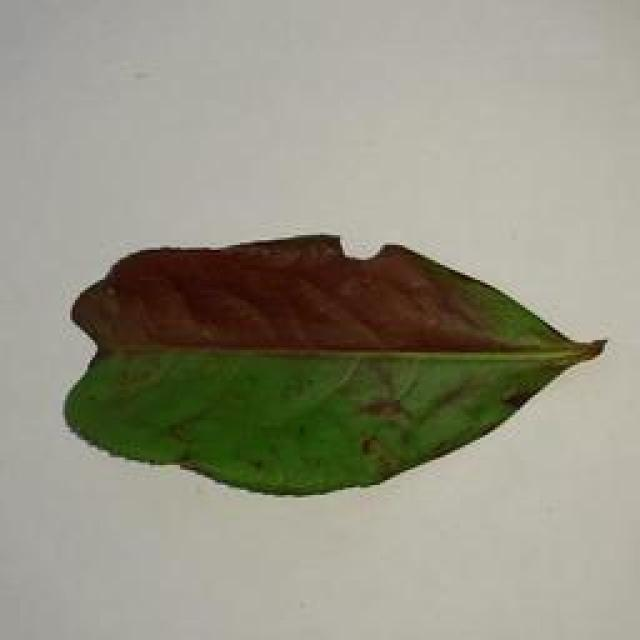Red Leaf Spot: (45, 222, 640, 501)
